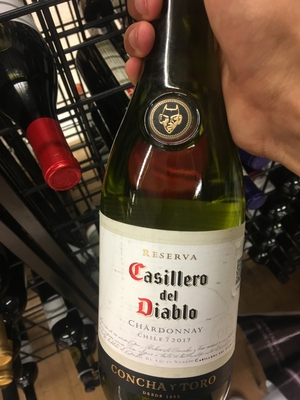casillero del diablo chardonnay: (80, 15, 256, 400)
